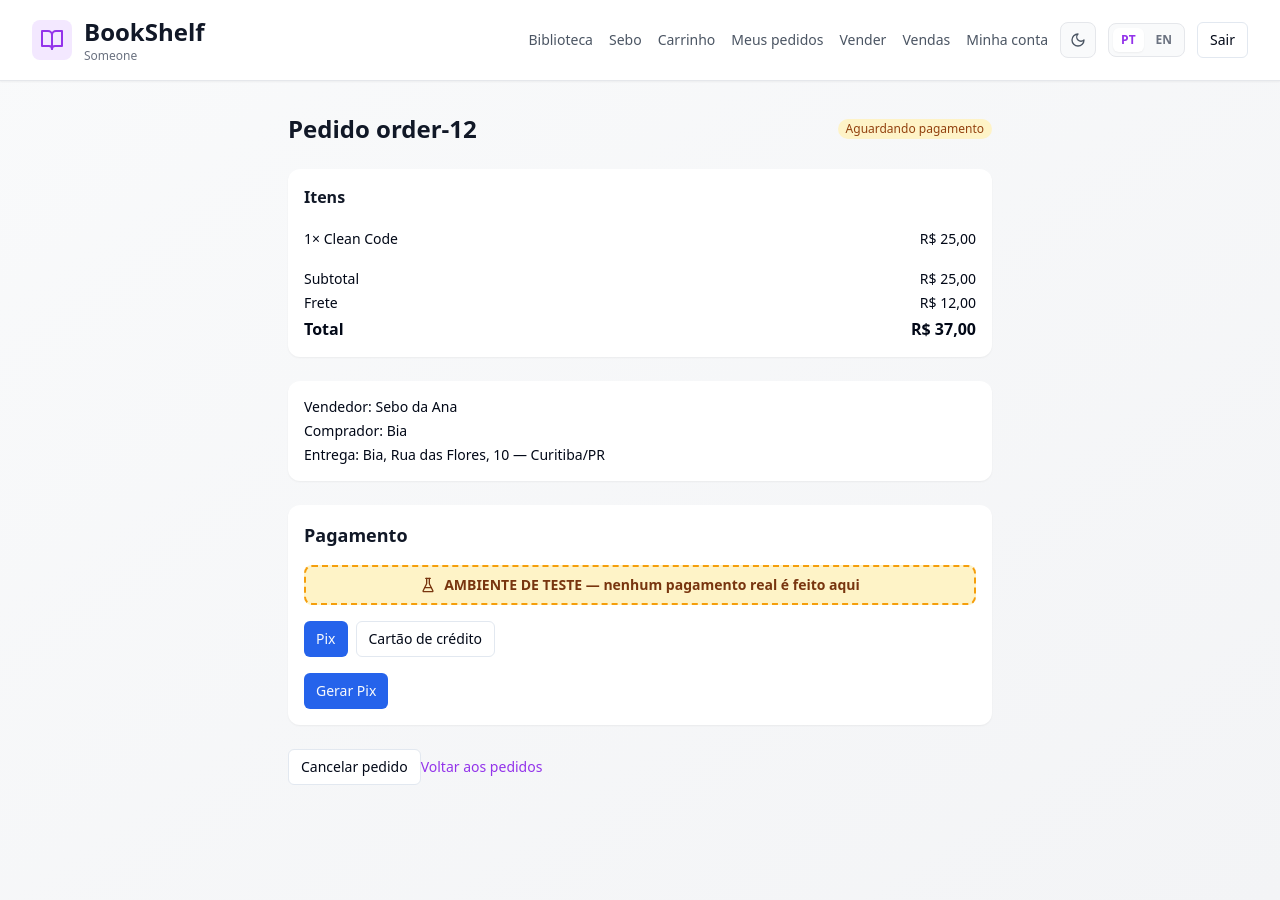
Test case: OrderPage as the buyer › shows the localised error when the payment cannot be processed
The image size is (1280, 900).
Click the button with test id "generate-pix-button" at [346, 691], box [304,673,388,709]
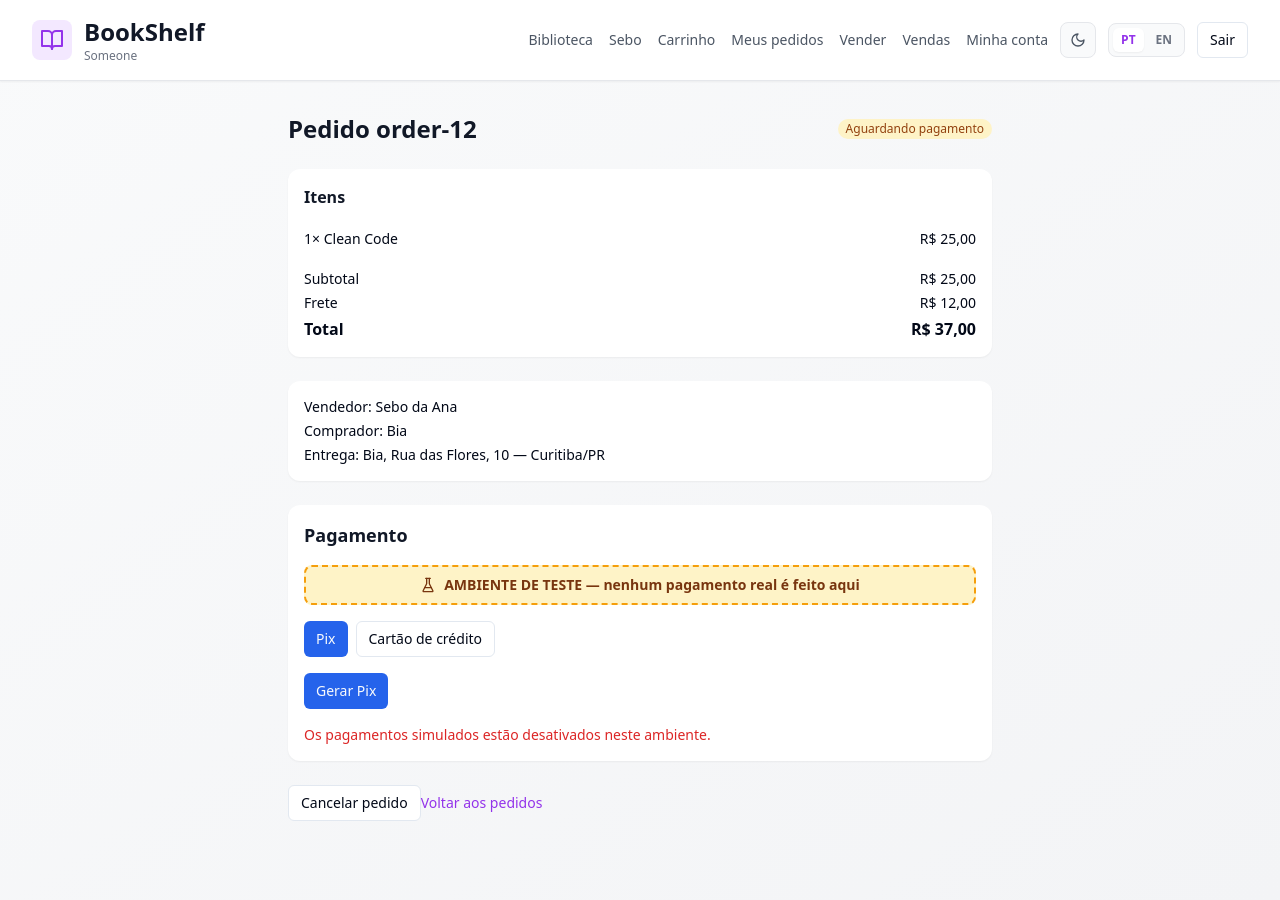
Now the message with test id "payment-error" shows "desativados", box [304,725,711,744]
